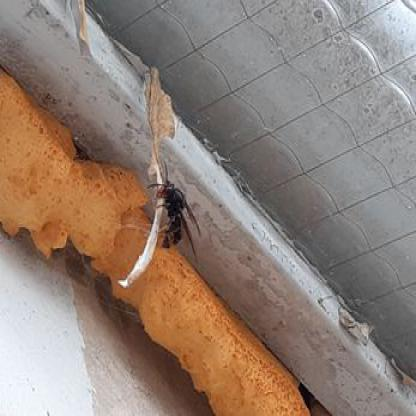Asian Hornet: (145, 164, 200, 258)
